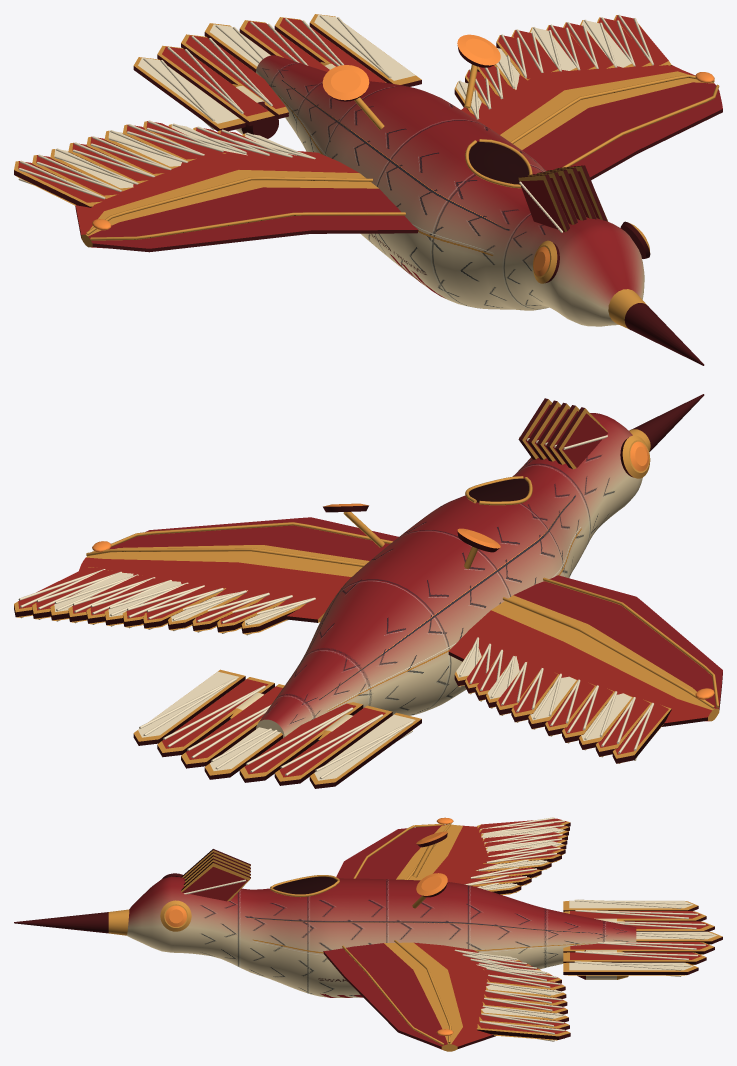
3 views of the same model, one above another, from view 1: azimuth 30°, elevation 25°; view 2: azimuth 150°, elevation 25°; view 3: azimuth 270°, elevation 25° (orthographic). The views are drawn at different scales.
Parts seen in each view (by area): view 1: kingfisher_hull; view 2: kingfisher_hull; view 3: kingfisher_hull.
Part boxes in pixels (left/top/right/bottom): kingfisher_hull: left=14, top=14, right=722, bottom=365; kingfisher_hull: left=14, top=394, right=722, bottom=788; kingfisher_hull: left=14, top=817, right=722, bottom=1051.
Bounding box in the file's own units: 12.5 × 3.63 × 17.
1 material, 1 textured.
